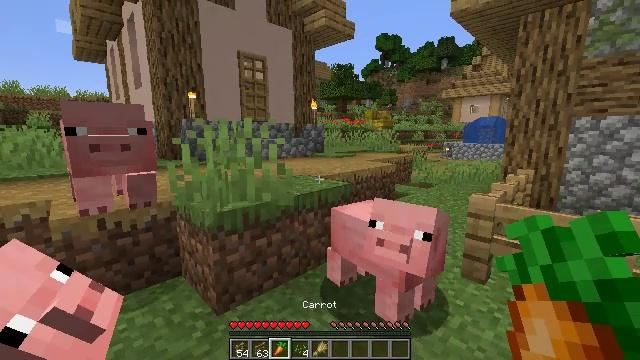pig: (327, 196, 448, 321), (0, 239, 124, 360), (63, 102, 157, 210)
